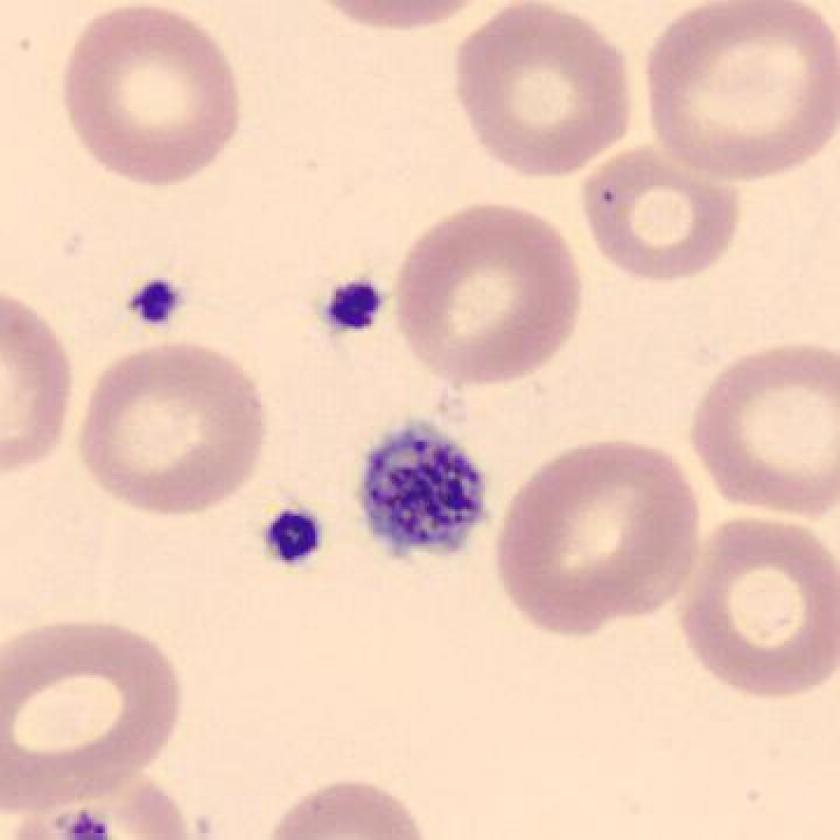platelets: (353, 413, 496, 570), (253, 501, 332, 572), (319, 272, 389, 339), (120, 272, 183, 332)
